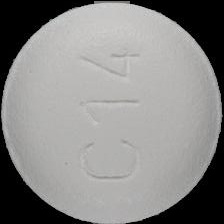54868-4986: (0, 0, 224, 224)
